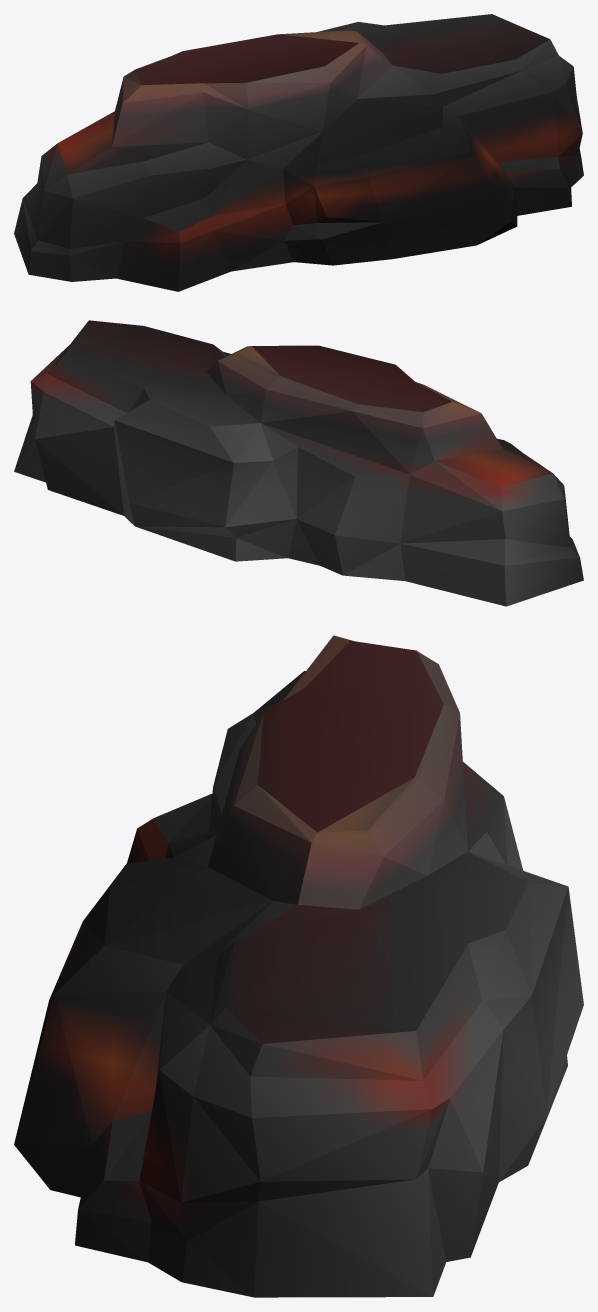
Rendered from Terrain_Volcano_Rock_1.fbx.
The picture shows the model from 3 angles, top to bottom: view 1: azimuth 30°, elevation 25°; view 2: azimuth 150°, elevation 25°; view 3: azimuth 270°, elevation 25°; orthographic projection. The views are drawn at different scales.
Parts seen in each view (by area): view 1: terrain_rock_115; view 2: terrain_rock_115; view 3: terrain_rock_115.
Boxes of the visible parts, box(x1,y1,x2,y2) form: terrain_rock_115: box(14, 14, 583, 291); terrain_rock_115: box(14, 320, 583, 606); terrain_rock_115: box(14, 635, 583, 1297).
Size of the model in its own units: 1070 by 296 by 534.
Materials: 1 (1 with a texture image).
